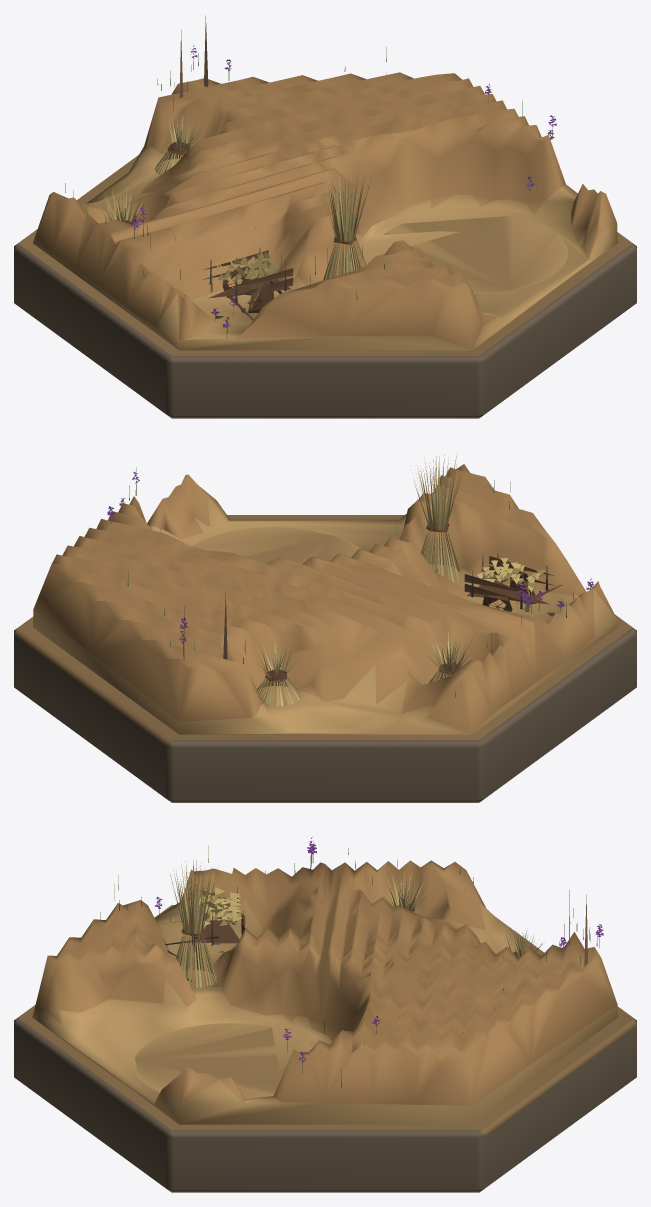
Rendered from tile_grain_lod0.glb.
3 views of the same model, one above another, from view 1: azimuth 30°, elevation 25°; view 2: azimuth 150°, elevation 25°; view 3: azimuth 270°, elevation 25° (orthographic).
Parts seen in each view (by area): view 1: tile_grain_LOD0; view 2: tile_grain_LOD0; view 3: tile_grain_LOD0.
Part boxes in pixels (x1,y1,x2,y2): tile_grain_LOD0: (14, 15, 636, 418); tile_grain_LOD0: (14, 454, 636, 802); tile_grain_LOD0: (14, 837, 636, 1192).
Bounding box in the file's own units: 1.73 × 0.6864 × 1.98.
